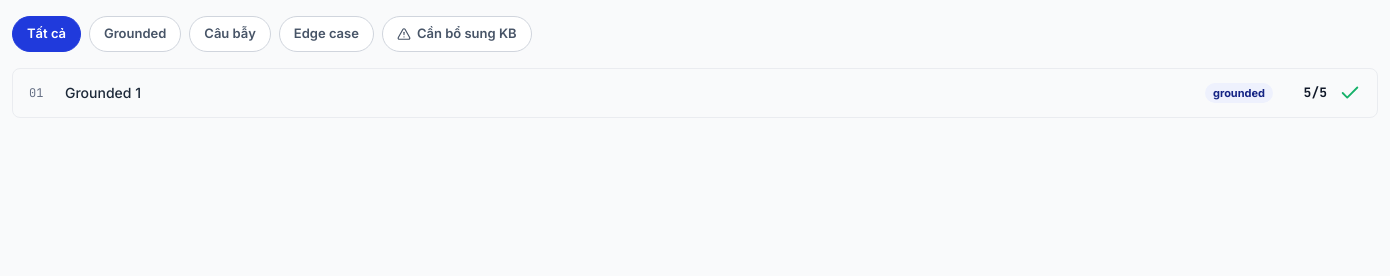
EvalTestList — sửa câu trả lời › nút sửa chỉ hiện sau khi mở dòng
The image size is (1390, 276).
Check: the button "Sửa câu trả lời" is not shown
Click the button "01 Grounded 1 grounded 5/5" at [103, 92], box [13,69,1377,117]
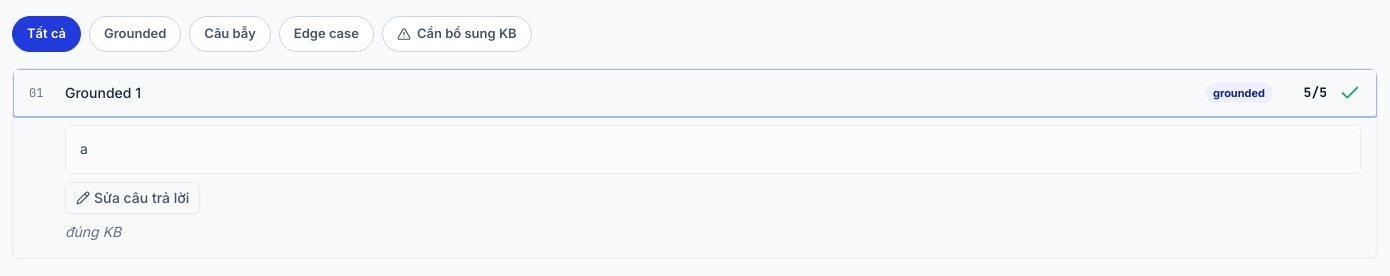
Check: the button "Sửa câu trả lời" is shown, box [65,182,200,214]
